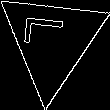L_E: (27, 23, 77, 59)
